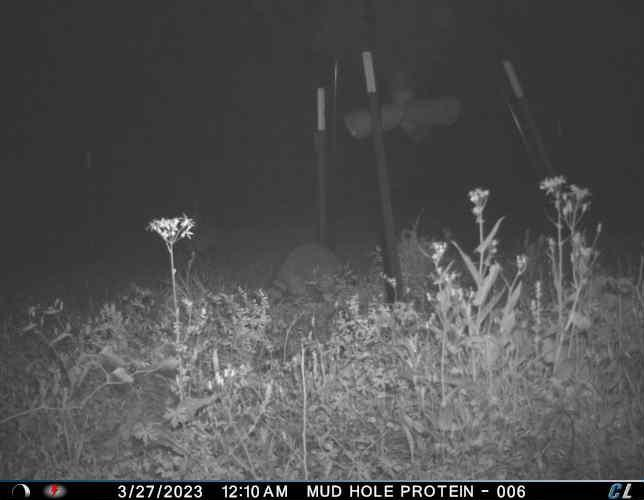Raccoon: (269, 244, 355, 306)
